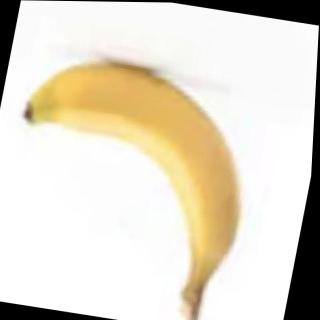banana: (0, 47, 272, 273)
